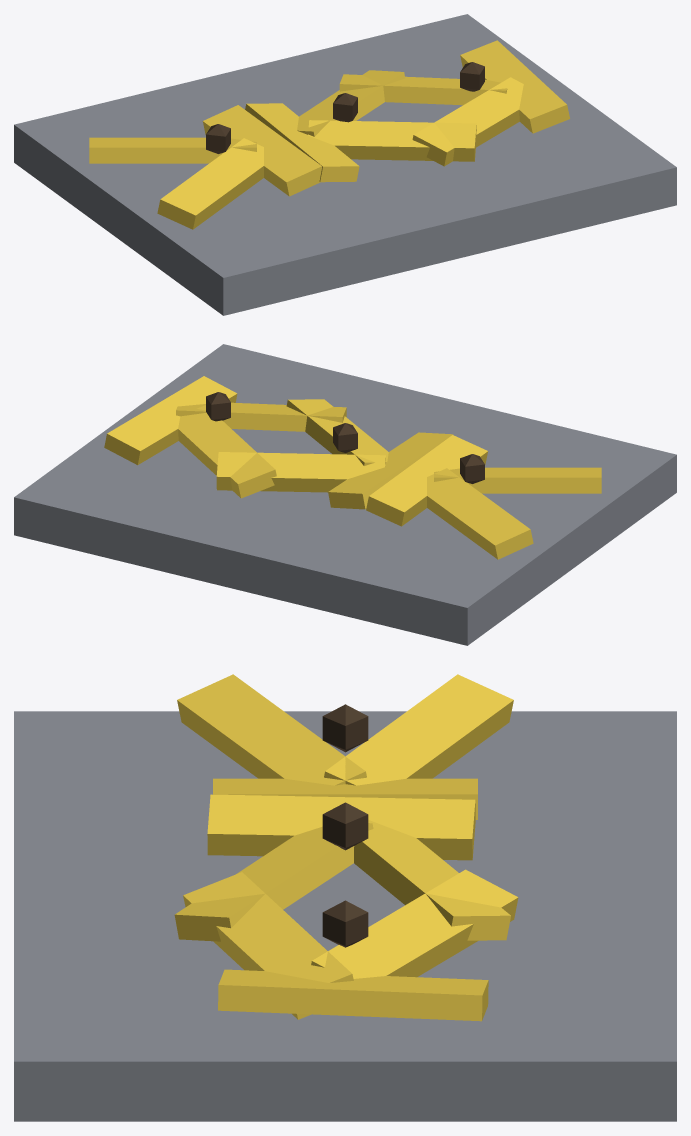
The model's file is banana_peels.glb.
The picture shows the model from 3 angles, top to bottom: view 1: azimuth 30°, elevation 25°; view 2: azimuth 150°, elevation 25°; view 3: azimuth 270°, elevation 25°; orthographic projection. The views are drawn at different scales.
Parts seen in each view (by area): view 1: tray_tray_grey, peels_banana_yellow (×9), tips_banana_tip (×3); view 2: tray_tray_grey, peels_banana_yellow (×9), tips_banana_tip (×3); view 3: tray_tray_grey, peels_banana_yellow (×9), tips_banana_tip (×3).
Part boxes in pixels (box(x1,y1,x2,y2)): tray_tray_grey: box(14, 14, 676, 315); peels_banana_yellow (×9): box(89, 40, 569, 229); tips_banana_tip (×3): box(206, 62, 484, 153); tray_tray_grey: box(14, 344, 676, 645); peels_banana_yellow (×9): box(104, 376, 601, 559); tips_banana_tip (×3): box(206, 392, 484, 483); tray_tray_grey: box(14, 711, 676, 1121); peels_banana_yellow (×9): box(174, 674, 518, 1021); tips_banana_tip (×3): box(322, 704, 368, 947).
Size of the model in its own units: 0.25 by 0.048 by 0.2.
